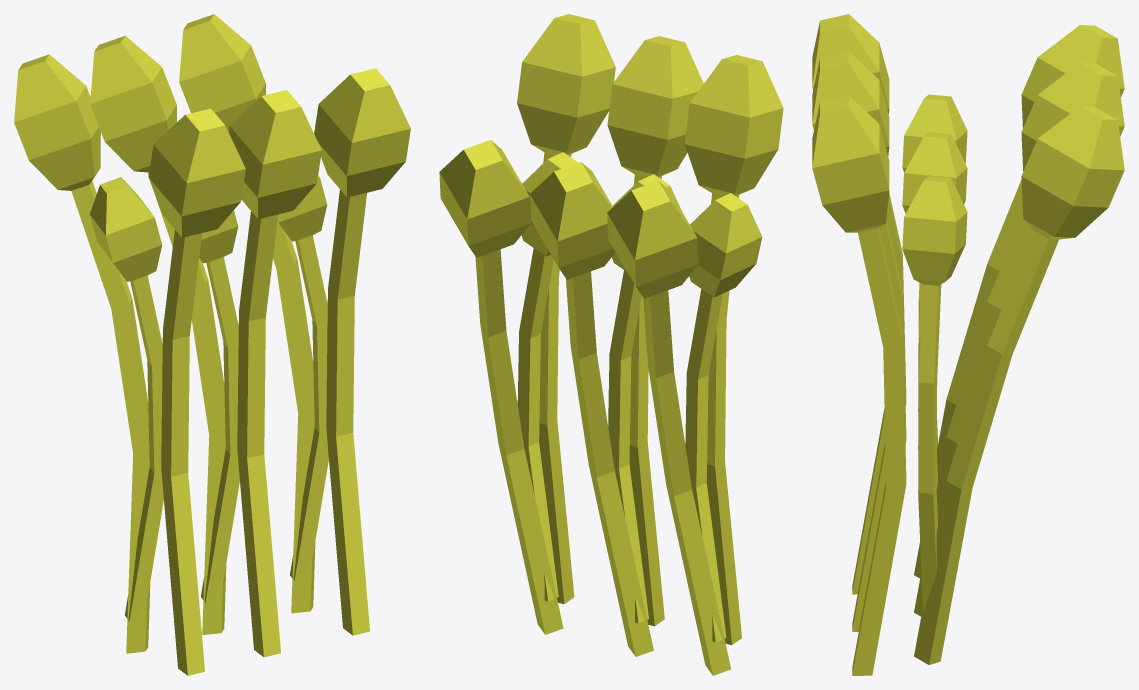
File: wheat.fbx
3 views of the same model, side by side, from view 1: azimuth 30°, elevation 25°; view 2: azimuth 150°, elevation 25°; view 3: azimuth 270°, elevation 25° (orthographic).
Parts seen in each view (by area): view 1: wheat.004; view 2: wheat.004; view 3: wheat.004.
Part boxes in pixels (box(x1,y1,x2,y2)): wheat.004: box(14, 14, 410, 675); wheat.004: box(439, 14, 783, 675); wheat.004: box(812, 14, 1124, 675).
Bounding box in the file's own units: 0.7538 × 1.52 × 0.7522.
